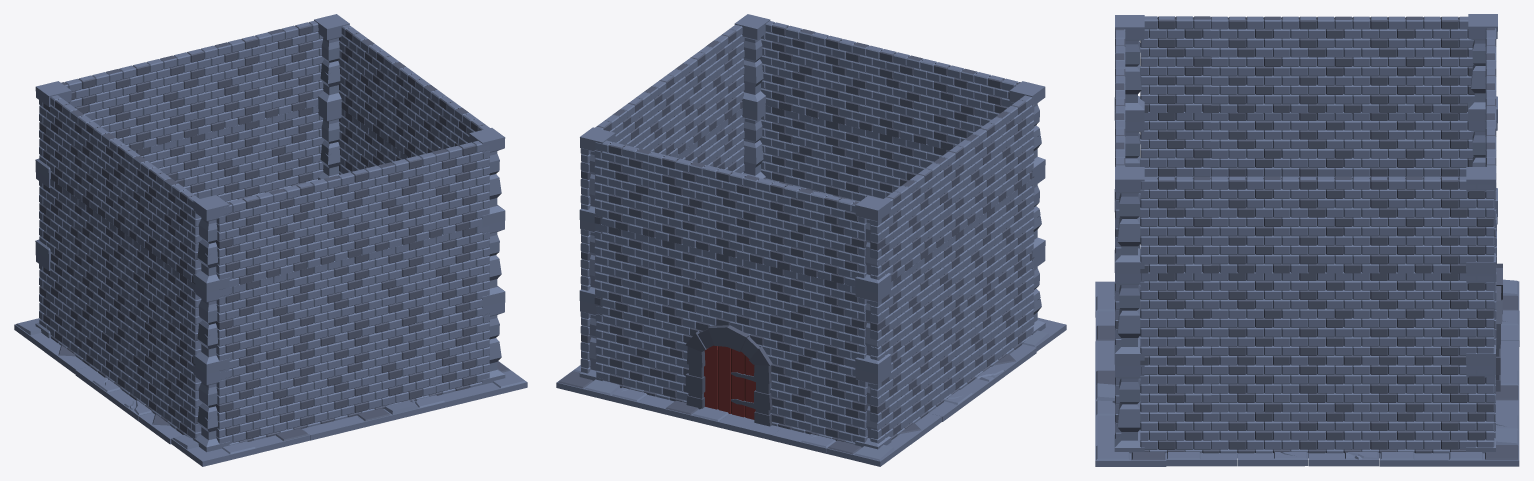
Rendered from MainMenu.fbx.
3 renders of one model, left to right at view 1: azimuth 30°, elevation 25°; view 2: azimuth 150°, elevation 25°; view 3: azimuth 270°, elevation 25°, orthographic. The views are drawn at different scales.
Parts seen in each view (by area): view 1: Gate.018, Gate.006, Gate.019, Gate.025, Gate.024, Gate.008, Gate.021, Gate.009, Gate.023, floor.009, Gate.007, Gate.014 (+8 smaller); view 2: Gate.025, Gate.009, Gate.018, Gate.024, Gate.008, Gate.021, Gate.006, Gate.023, Gate.022, floor.009, Gate.010, Gate.017 (+14 smaller); view 3: Gate.023, Gate.007, Gate.024, Gate.020, Gate.008, floor.009, Gate.012, Gate.004, Gate.015, Gate.014, Gate.002, Gate.025 (+7 smaller).
Part boxes in pixels (bbox=[...]): Gate.018: bbox=[216, 141, 489, 289]; Gate.006: bbox=[216, 226, 489, 370]; Gate.019: bbox=[216, 307, 489, 445]; Gate.025: bbox=[61, 21, 323, 150]; Gate.024: bbox=[39, 95, 202, 284]; Gate.008: bbox=[39, 178, 202, 365]; Gate.021: bbox=[39, 260, 202, 438]; Gate.009: bbox=[134, 106, 323, 202]; Gate.023: bbox=[338, 25, 489, 157]; floor.009: bbox=[14, 318, 527, 466]; Gate.007: bbox=[338, 108, 408, 174]; Gate.014: bbox=[193, 195, 229, 293]; Gate.025: bbox=[594, 140, 866, 286]; Gate.009: bbox=[594, 223, 866, 367]; Gate.018: bbox=[760, 21, 1020, 150]; Gate.024: bbox=[870, 95, 1034, 281]; Gate.008: bbox=[870, 178, 1034, 362]; Gate.021: bbox=[870, 260, 1034, 443]; Gate.006: bbox=[760, 105, 949, 201]; Gate.023: bbox=[580, 24, 744, 209]; Gate.022: bbox=[649, 318, 812, 434]; floor.009: bbox=[556, 317, 1066, 466]; Gate.010: bbox=[811, 358, 868, 444]; Gate.017: bbox=[595, 306, 649, 394]; Gate.023: bbox=[1140, 176, 1494, 273]; Gate.007: bbox=[1140, 272, 1494, 365]; Gate.024: bbox=[1140, 16, 1474, 113]; Gate.020: bbox=[1140, 364, 1494, 457]; Gate.008: bbox=[1140, 111, 1473, 177]; floor.009: bbox=[1095, 279, 1519, 466]; Gate.012: bbox=[1114, 167, 1144, 273]; Gate.004: bbox=[1114, 274, 1144, 365]; Gate.015: bbox=[1114, 365, 1144, 453]; Gate.014: bbox=[1114, 15, 1144, 121]; Gate.002: bbox=[1468, 14, 1497, 120]; Gate.025: bbox=[1485, 28, 1496, 264].
Bounding box in the file's own units: 1264 × 918 × 1259.
